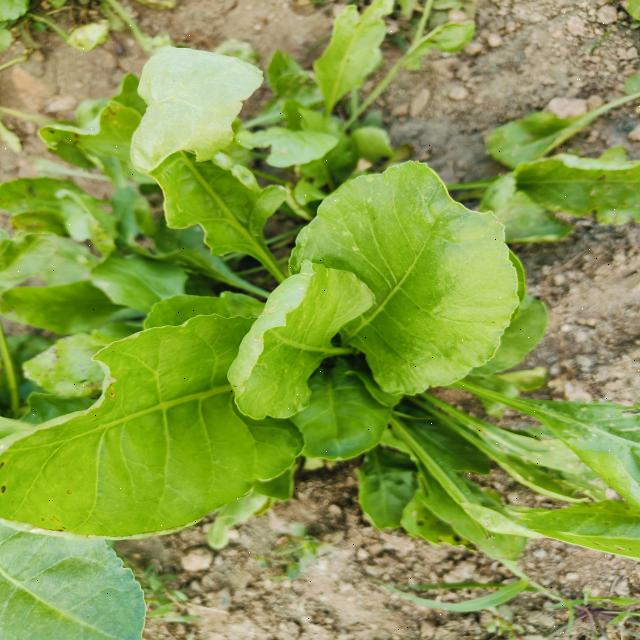leaves: (1, 306, 356, 538), (285, 130, 528, 467), (93, 31, 320, 336), (343, 376, 545, 594), (213, 252, 405, 441), (476, 152, 640, 247), (276, 356, 403, 475)
